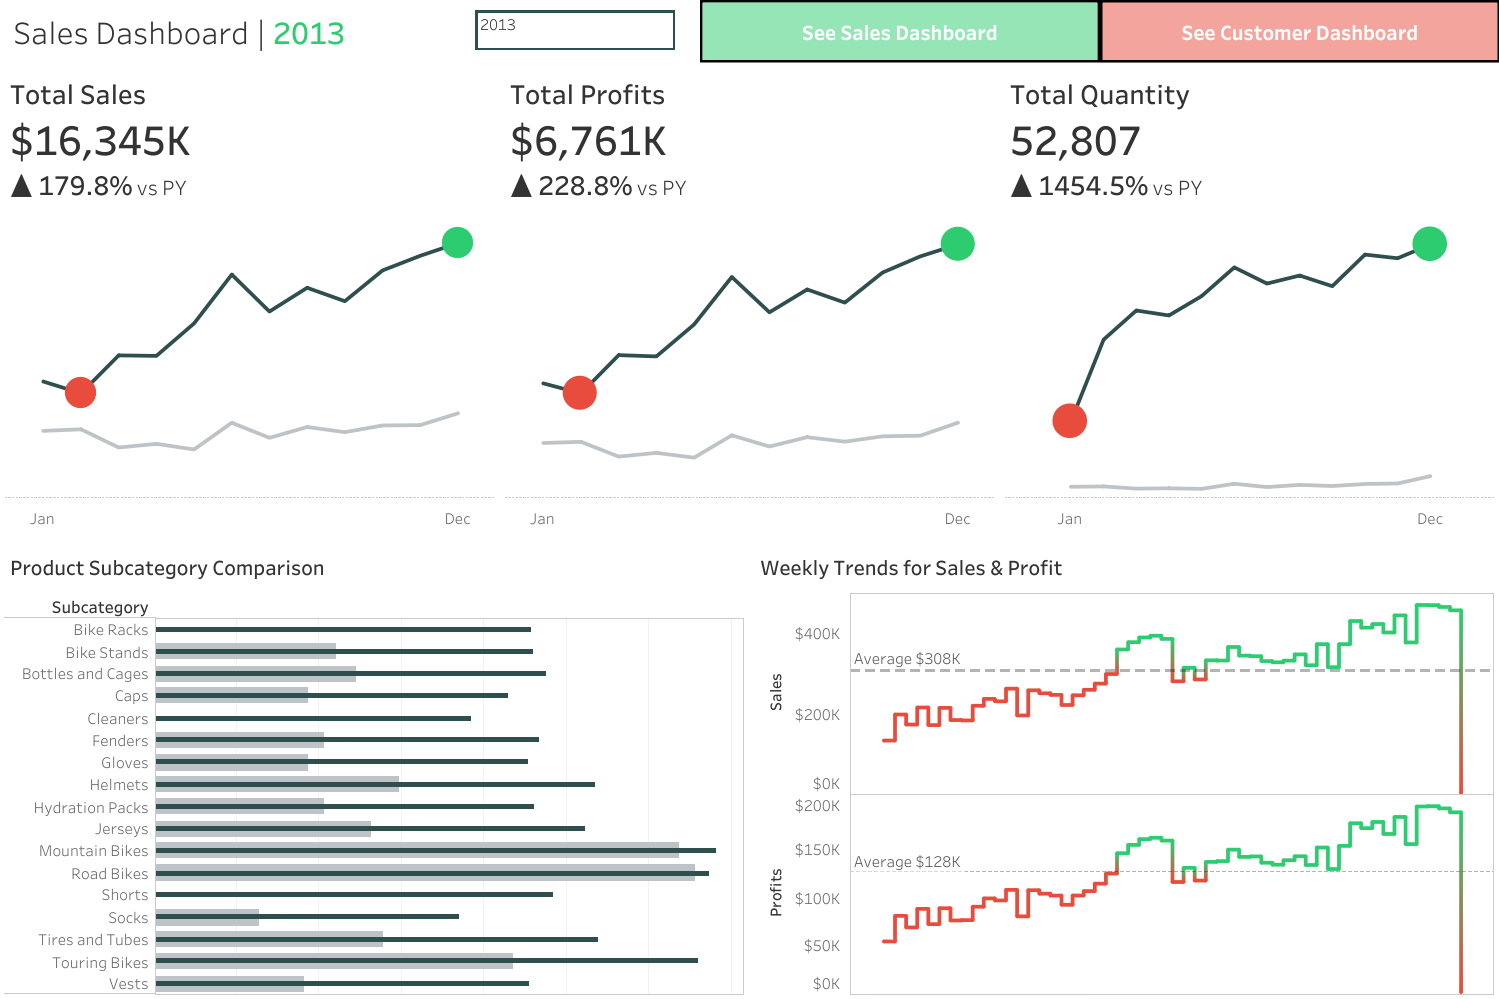

The dashboard page shown, as its layout file describes it:
{"tool":"tableau","page":{"name":"Sales Dashboard","canvas":[1200,800],"ordinal":1},"visuals":[{"type":"title","box":[0,0,1200,50]},{"type":"dashboard-object","box":[560,0,320,50]},{"type":"dashboard-object","box":[880,0,320,50]},{"type":"parameter","param":"[Parameters].[Parameter 1]","box":[380,8,160,32]},{"type":"worksheet","title":"Total Sales","mark":"Automatic","rows":["Calculation_2865133850919718917"],"cols":["order_date"],"box":[0,50,400,382]},{"type":"worksheet","title":"Total Profits","mark":"Automatic","rows":["Min/Max Sales (copy)_2865133851006341140"],"cols":["order_date"],"box":[400,50,400,382]},{"type":"worksheet","title":"Total Quantity","mark":"Automatic","rows":["Min/Max Sales (copy)_2865133850999238669"],"cols":["order_date"],"box":[800,50,400,382]},{"type":"worksheet","title":"Product Subcategory Comparison","mark":"Bar","rows":["subcategory"],"cols":["CY Sales (copy)_2865133850906984451","Calculation_2865133850906771458"],"box":[0,432,600,368]},{"type":"worksheet","title":"Weekly Trends for Sales & Profit","mark":"Automatic","rows":["Calculation_2865133850906771458","Calculation_2865133851005317138"],"cols":["order_date"],"box":[600,432,600,368]}]}

Visuals, with their boxes in screenshot pixels (x1, y1, x2, y2), scaled from the page's 1200x800 canvas onto the 1499x999 screenshot:
title: x1=0, y1=0, x2=1498, y2=62
dashboard-object: x1=700, y1=0, x2=1099, y2=62
dashboard-object: x1=1099, y1=0, x2=1498, y2=62
parameter: x1=475, y1=10, x2=675, y2=50
"Total Sales" worksheet: x1=0, y1=62, x2=500, y2=539
"Total Profits" worksheet: x1=500, y1=62, x2=999, y2=539
"Total Quantity" worksheet: x1=999, y1=62, x2=1498, y2=539
"Product Subcategory Comparison" worksheet (Bar marks): x1=0, y1=539, x2=750, y2=998
"Weekly Trends for Sales & Profit" worksheet: x1=750, y1=539, x2=1498, y2=998
